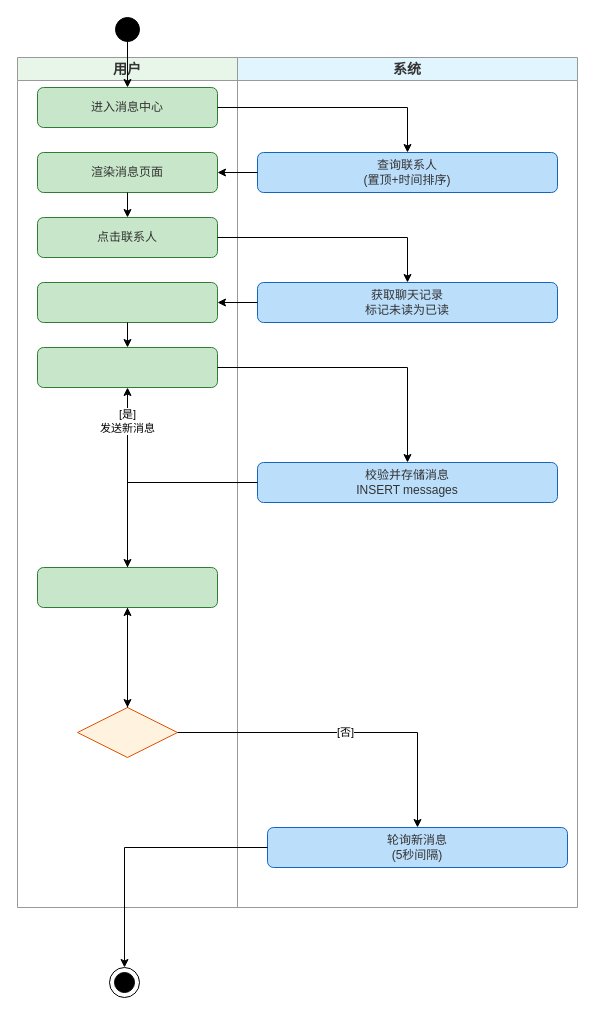
Some shapes in this 595 by 1015 pixel diagram are drawn without their labels. The centre of each missing label's shape, as x and y in pixels:
前端追加显示 清空输入框: (x=127, y=587)
渲染聊天记录: (x=127, y=302)
继续 聊天?: (x=127, y=732)
输入消息 点击发送: (x=127, y=367)
